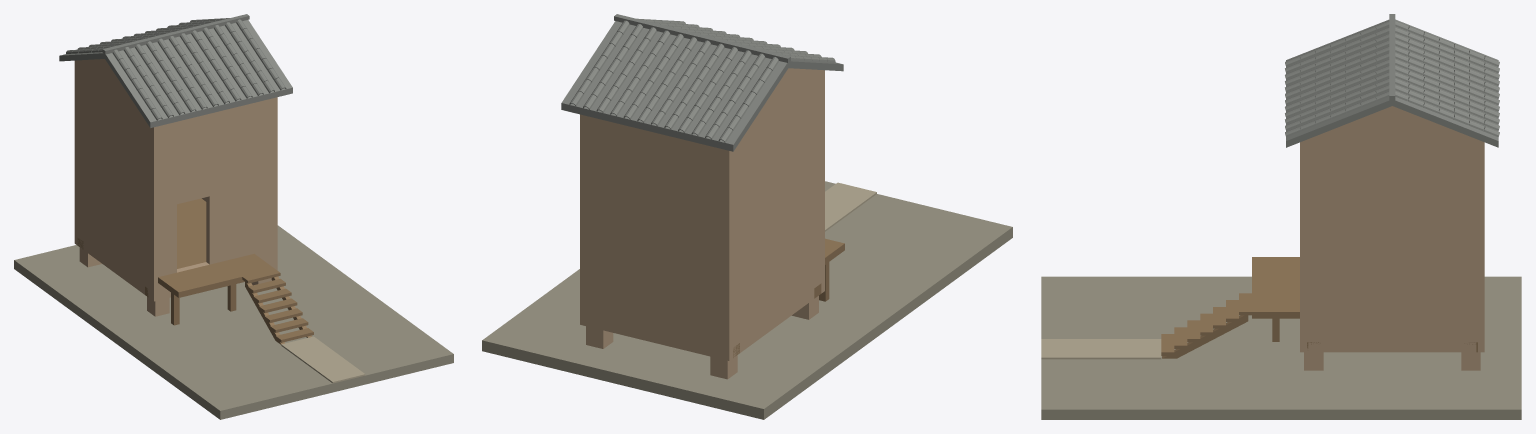
The model's file is granary-C.glb.
3 views of the same model, side by side, from view 1: azimuth 30°, elevation 25°; view 2: azimuth 150°, elevation 25°; view 3: azimuth 270°, elevation 25° (orthographic). The views are drawn at different scales.
Parts seen in each view (by area): view 1: C_site, A_side, A_front_right, A_roof, A_front_left, A_front_header, B_gallery, B_floor, C_approach, B_gable_closure, A_back, B_ridge (+1 smaller); view 2: C_site, A_back, A_side, A_roof, B_gable_closure, C_approach, B_ridge, A_front_left, A_foot.001, A_foot.003; view 3: C_site, A_side.001, A_roof, B_gable_closure.001, C_approach, B_gallery, A_front_right, A_back, B_gallery_extension, B_stringer.001, B_ridge.
Part boxes in pixels (x1,y1,x2,y2): C_site: (14, 225, 453, 419); A_side: (78, 67, 150, 298); A_front_right: (206, 97, 277, 270); A_roof: (59, 20, 292, 127); A_front_left: (150, 122, 176, 301); A_front_header: (177, 114, 209, 204); B_gallery: (158, 260, 247, 297); B_floor: (177, 198, 206, 268); C_approach: (281, 336, 365, 383); B_gable_closure: (74, 59, 138, 110); A_back: (74, 64, 78, 245); B_ridge: (102, 14, 249, 54); C_site: (482, 181, 1012, 419); A_back: (580, 114, 733, 360); A_side: (733, 77, 820, 357); A_roof: (561, 21, 843, 151); B_gable_closure: (747, 68, 824, 130); C_approach: (825, 182, 876, 231); B_ridge: (614, 14, 790, 62); A_front_left: (820, 74, 824, 293); A_foot.001: (710, 355, 737, 379); A_foot.003: (586, 326, 613, 348); C_site: (1041, 276, 1521, 419); A_side.001: (1308, 143, 1476, 352); A_roof: (1286, 19, 1498, 147); B_gable_closure.001: (1300, 106, 1484, 142); C_approach: (1041, 339, 1161, 359); B_gallery: (1252, 257, 1299, 296); A_front_right: (1300, 143, 1308, 352); A_back: (1476, 143, 1484, 352); B_gallery_extension: (1252, 296, 1299, 318); B_stringer.001: (1162, 315, 1248, 358); B_ridge: (1389, 14, 1395, 100).
Size of the model in its own units: 6.8 by 6.99 by 10.4.
